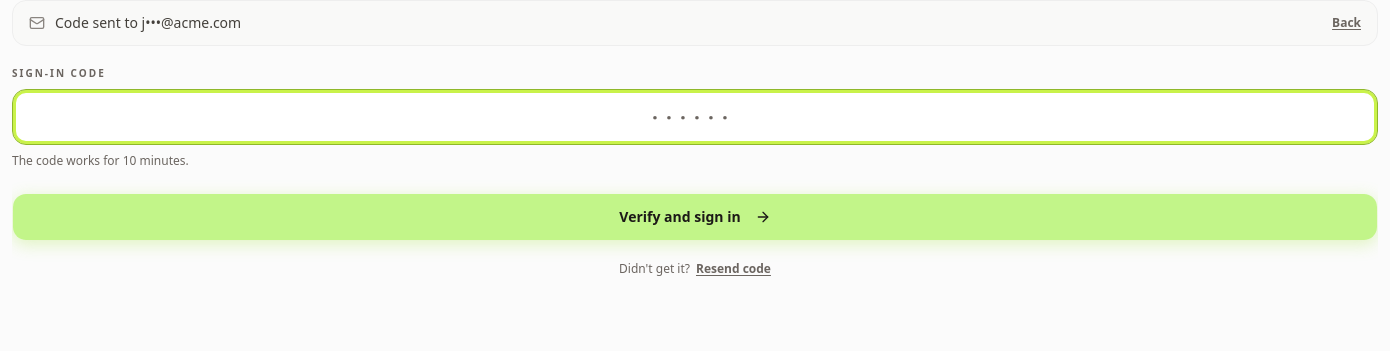
Scenario: CodeStep › shows the tries left on a wrong code and clears the box
The width and height of the screenshot is (1390, 351).
Type "111111" into the field labelled "Sign-in code" at coordinates (695, 117), box [12, 89, 1378, 145]
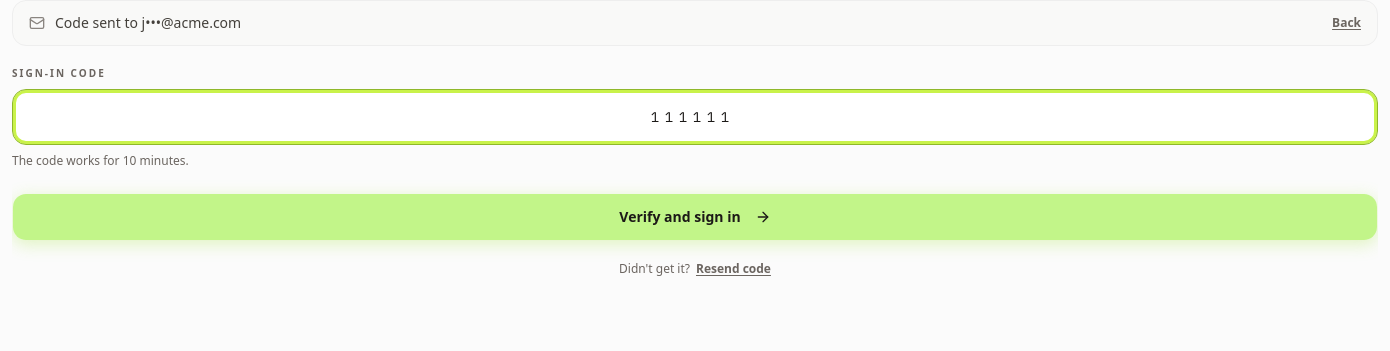
Click the button with aria-label "Verify code" at coordinates (695, 217), box [12, 193, 1378, 241]
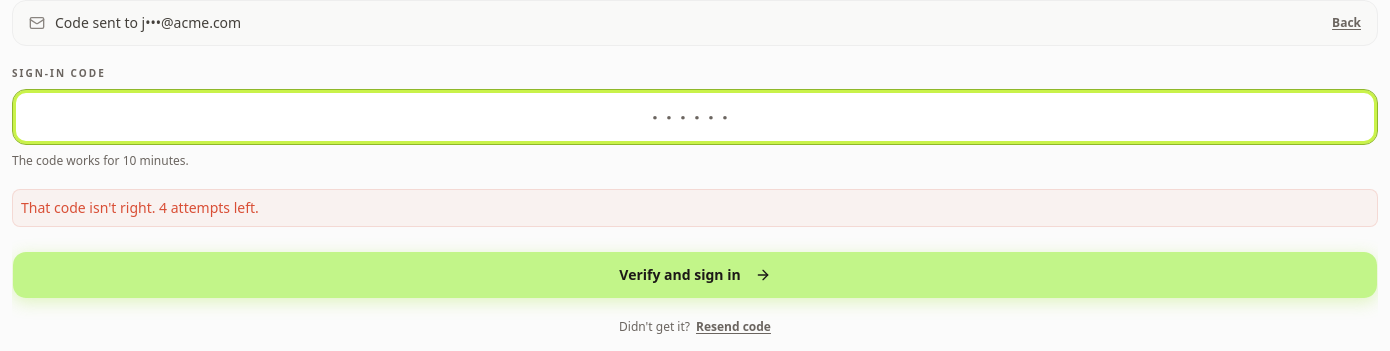
Result: the text "That code isn't right. 4 attempts left." is shown at [12, 189, 1378, 227]
Result: the field labelled "Sign-in code" is empty at [12, 89, 1378, 145]
